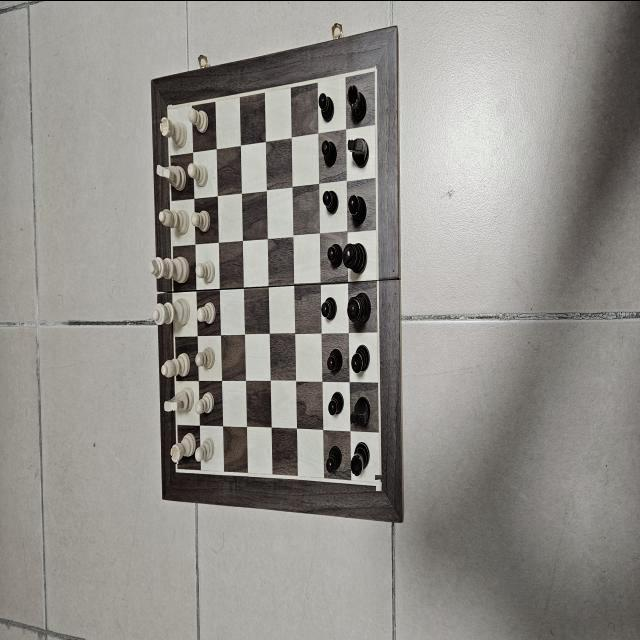chess-table-corners: (376, 474, 384, 490), (164, 100, 172, 113), (372, 60, 378, 77), (174, 463, 182, 475)
